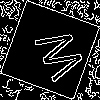W: (25, 25, 87, 88)
